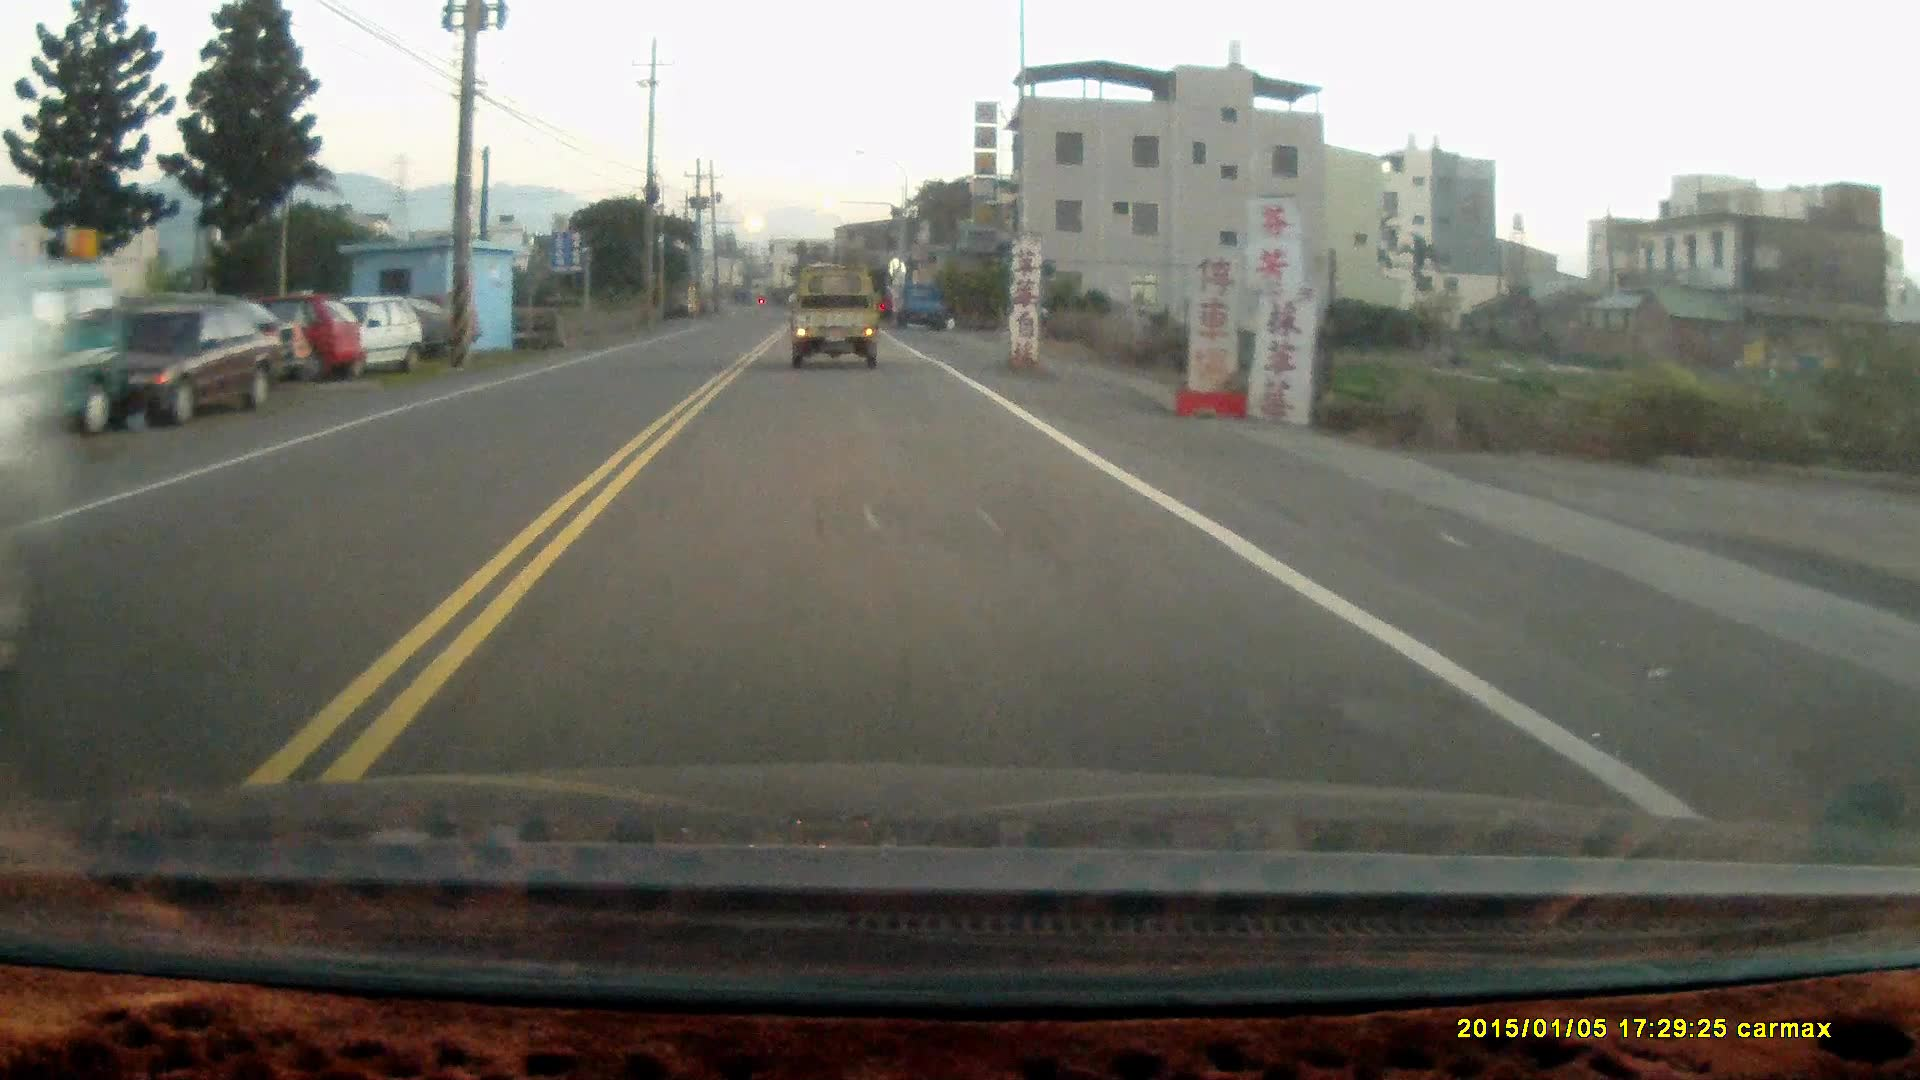vehicle: (45, 290, 299, 431), (204, 295, 365, 380), (790, 270, 885, 375), (310, 297, 425, 375), (899, 284, 953, 335)
